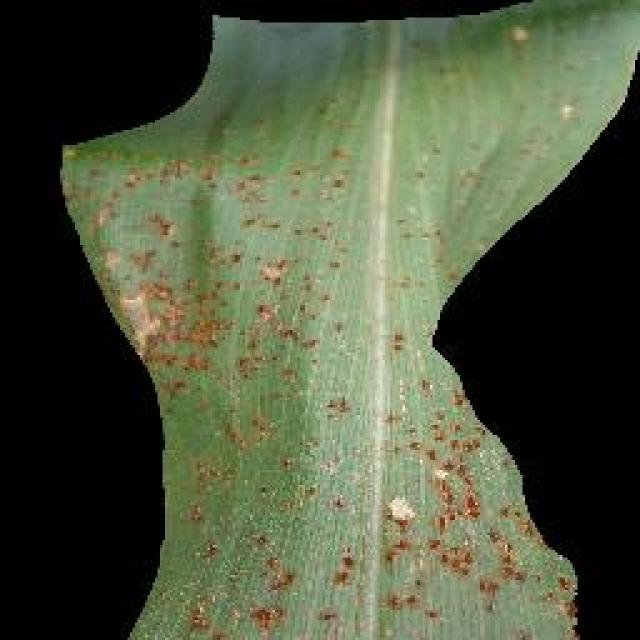Corn Common Rust: (87, 135, 625, 640)
